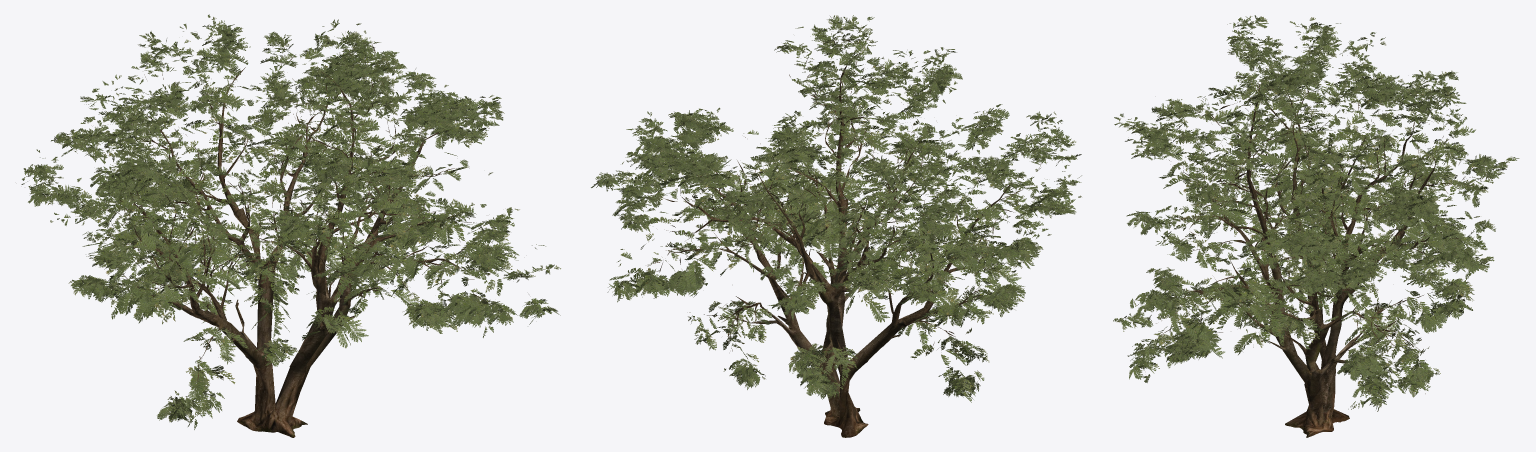
The model's file is tree-b.glb.
3 views of the same model, side by side, from view 1: azimuth 30°, elevation 25°; view 2: azimuth 150°, elevation 25°; view 3: azimuth 270°, elevation 25° (orthographic). The views are drawn at different scales.
Parts seen in each view (by area): view 1: jacaranda_tree_LOD0; view 2: jacaranda_tree_LOD0; view 3: jacaranda_tree_LOD0.
Boxes of the visible parts, x1,y1,x2,y2 form: jacaranda_tree_LOD0: (21,14,560,437); jacaranda_tree_LOD0: (591,15,1081,437); jacaranda_tree_LOD0: (1113,15,1519,437).
Bounding box in the file's own units: 24.47 × 19.49 × 19.16.
3 materials, 3 textured.
